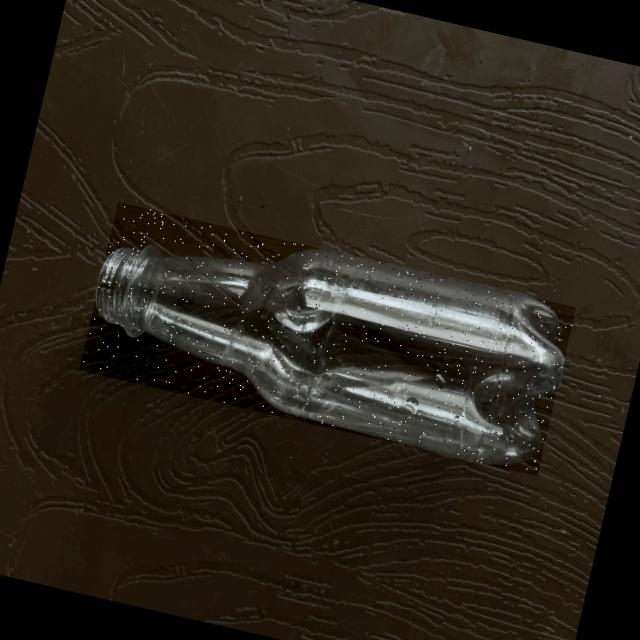PET_With_Liquid: (97, 248, 563, 463)
